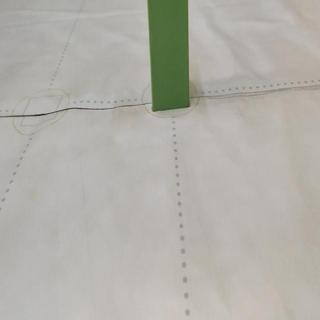greenbox: (145, 1, 195, 112)
